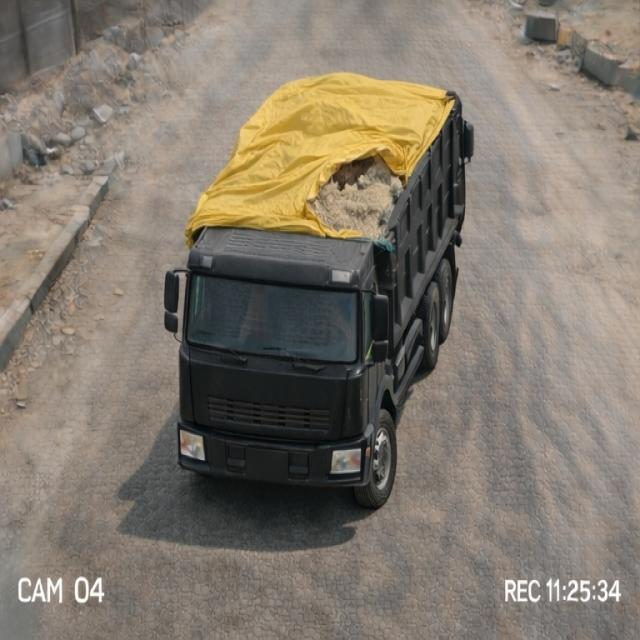trailer: (184, 66, 473, 240)
truck: (162, 29, 500, 505)
